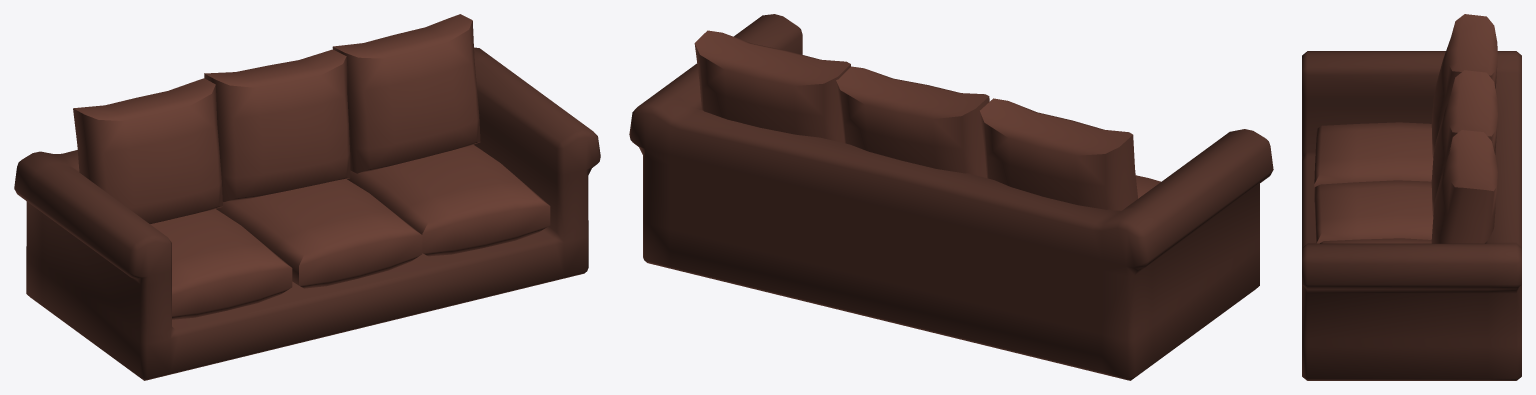
The model's file is furn-sofa-3seater-fabric-grey.glb.
The picture shows the model from 3 angles, left to right: view 1: azimuth 30°, elevation 25°; view 2: azimuth 150°, elevation 25°; view 3: azimuth 270°, elevation 25°; orthographic projection. The views are drawn at different scales.
Parts seen in each view (by area): view 1: Couch_Large1; view 2: Couch_Large1; view 3: Couch_Large1.
Part boxes in pixels (x1=…): Couch_Large1: x1=14, y1=14, x2=600, y2=380; Couch_Large1: x1=629, y1=14, x2=1273, y2=380; Couch_Large1: x1=1302, y1=14, x2=1521, y2=380.
Size of the model in its own units: 2.1 by 0.85 by 0.92.
